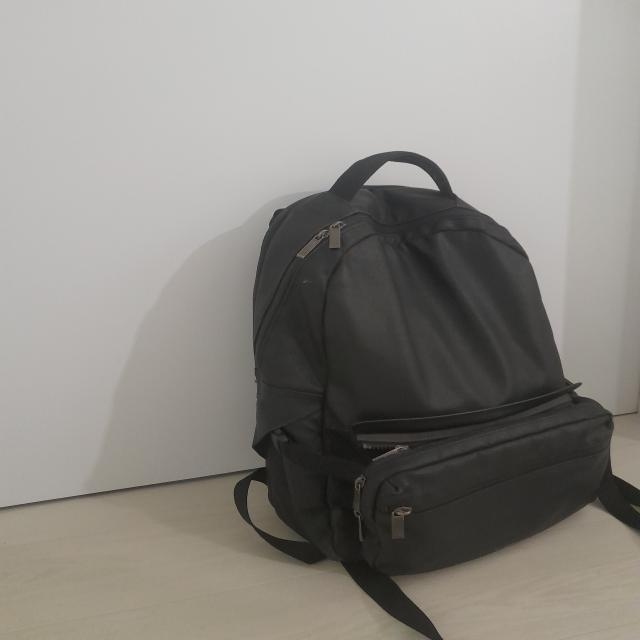backpack: (237, 150, 640, 640)
